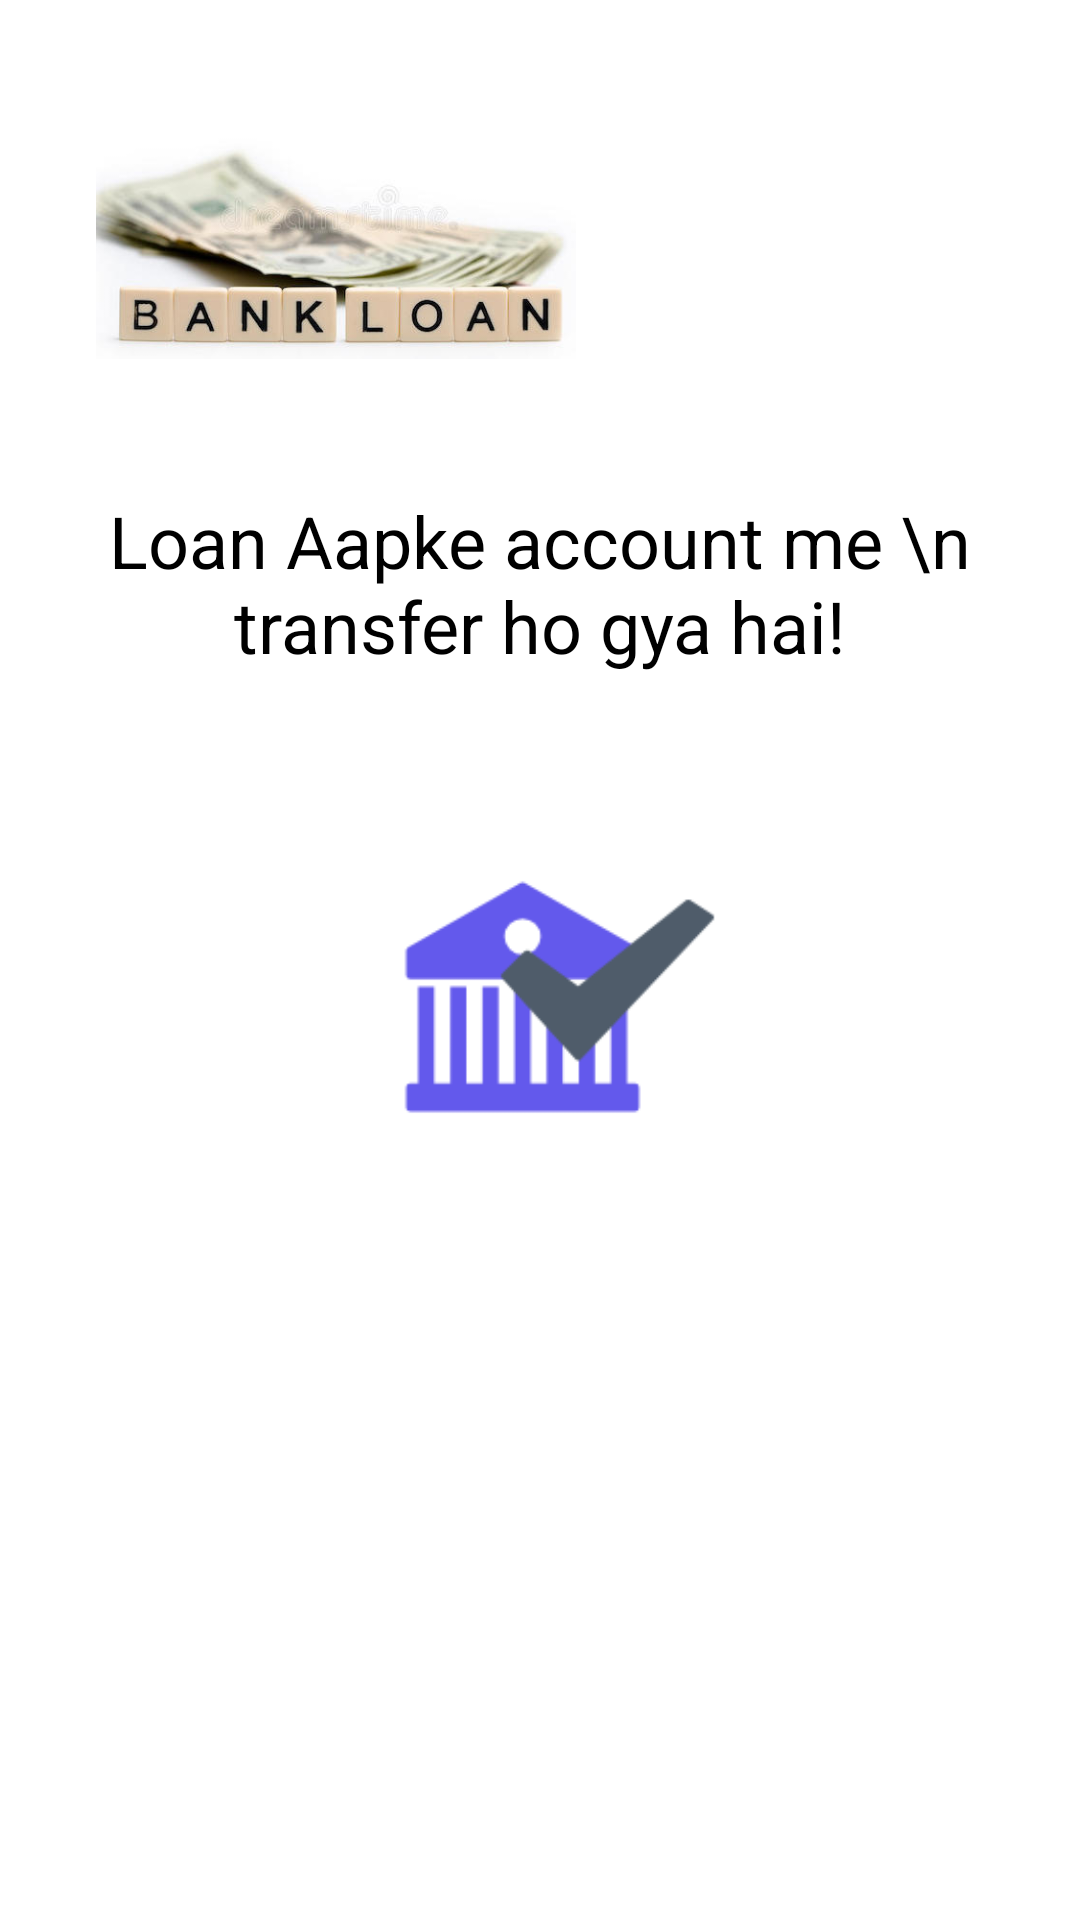

Icon click points for this 1080 x 1920 phone screenshot, format (x,y):
loan transferred: (560,997)
